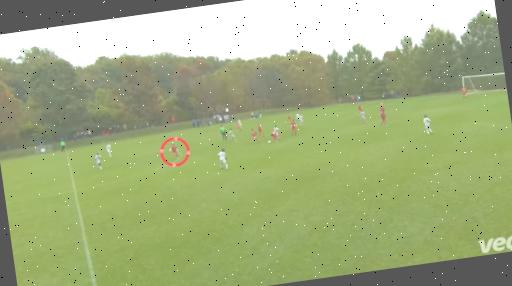highlight_overlay: (158, 136, 195, 169)
